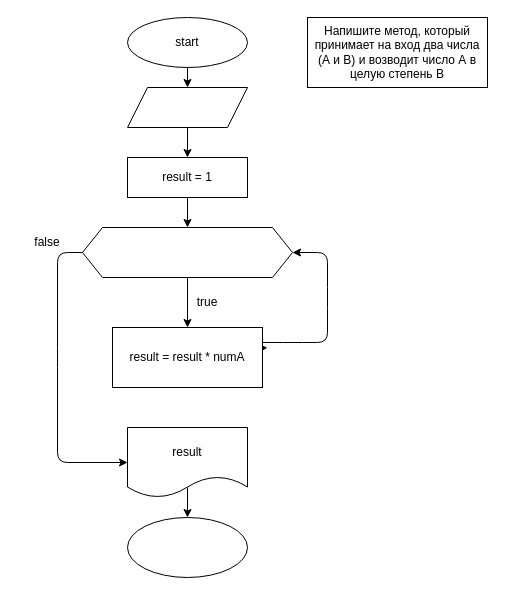
The diagram is 505 pixels wide and 595 high, and some of its shapes have lost their labels. Here are the shapes that lost their labels. From the top down, the centre of each, then its label:
At (x=187, y=107): "numA, numB".
At (x=187, y=252): "i от 1 до numB".
At (x=187, y=547): "finish".
